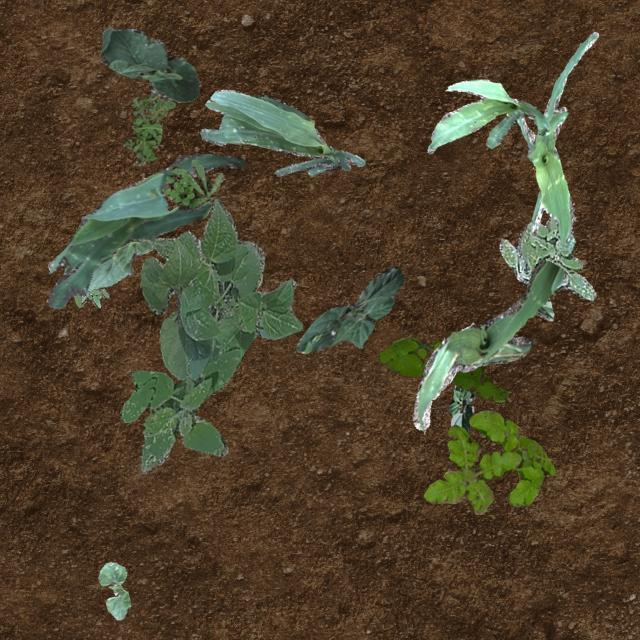crop: (46, 152, 245, 308), (138, 198, 302, 380), (412, 258, 562, 430), (516, 31, 598, 242), (198, 88, 364, 175), (296, 264, 402, 352), (426, 78, 550, 152), (100, 28, 198, 102), (86, 236, 158, 290), (96, 562, 130, 618), (448, 384, 473, 432), (534, 298, 552, 320)
weed: (118, 344, 240, 472), (422, 409, 554, 514), (377, 336, 508, 401), (498, 216, 594, 300), (122, 90, 174, 164), (162, 158, 224, 208), (72, 288, 108, 306)
